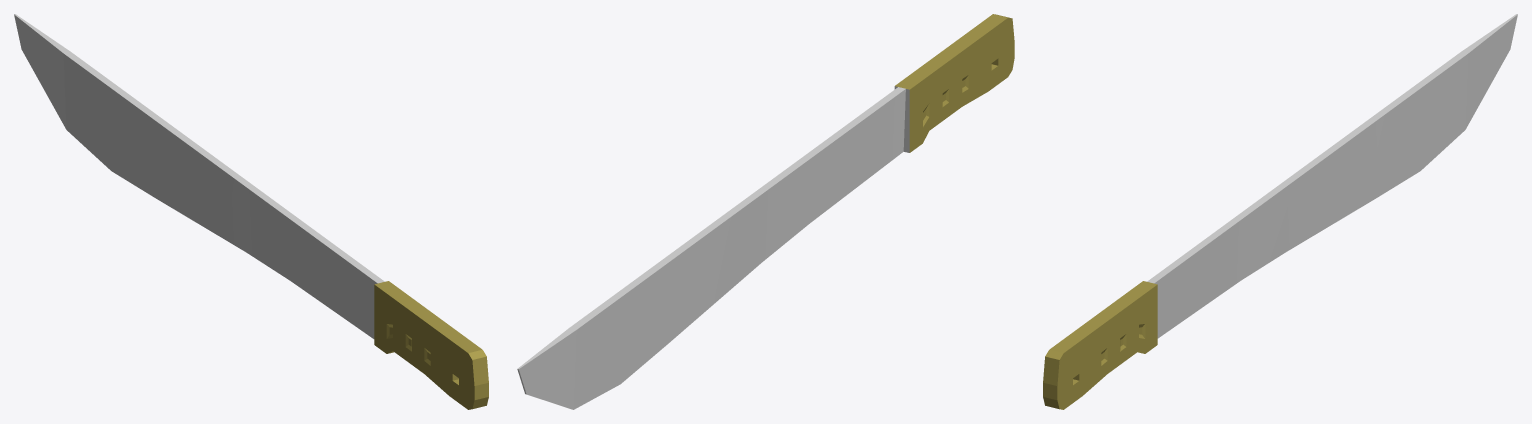
Rendered from machete.fbx.
3 renders of one model, left to right at view 1: azimuth 30°, elevation 25°; view 2: azimuth 150°, elevation 25°; view 3: azimuth 330°, elevation 25°, orthographic. The views are drawn at different scales.
Parts seen in each view (by area): view 1: machete; view 2: machete; view 3: machete.
Boxes of the visible parts, x1=… form: machete: x1=14, y1=14, x2=488, y2=409; machete: x1=517, y1=14, x2=1014, y2=409; machete: x1=1043, y1=14, x2=1517, y2=409.
Size of the model in its own units: 1.27 by 7.18 by 71.06.
